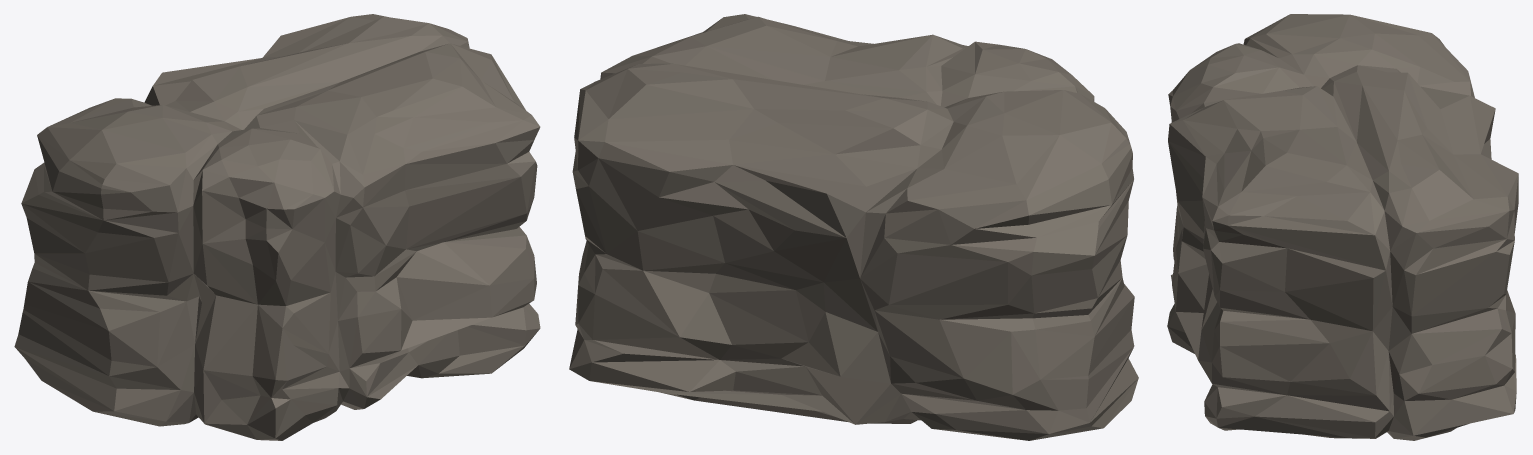
Rendered from SM_Env_Rock_Large_03.fbx.
3 views of the same model, side by side, from view 1: azimuth 30°, elevation 25°; view 2: azimuth 150°, elevation 25°; view 3: azimuth 270°, elevation 25° (orthographic). The views are drawn at different scales.
Visible parts, largest first — view 1: SM_Env_Rock_Large_03; view 2: SM_Env_Rock_Large_03; view 3: SM_Env_Rock_Large_03.
Part boxes in pixels (box(x1,y1,x2,y2)): SM_Env_Rock_Large_03: box(14, 14, 540, 440); SM_Env_Rock_Large_03: box(569, 14, 1138, 440); SM_Env_Rock_Large_03: box(1167, 14, 1518, 440).
Size of the model in its own units: 5.54 by 3.18 by 3.78.
